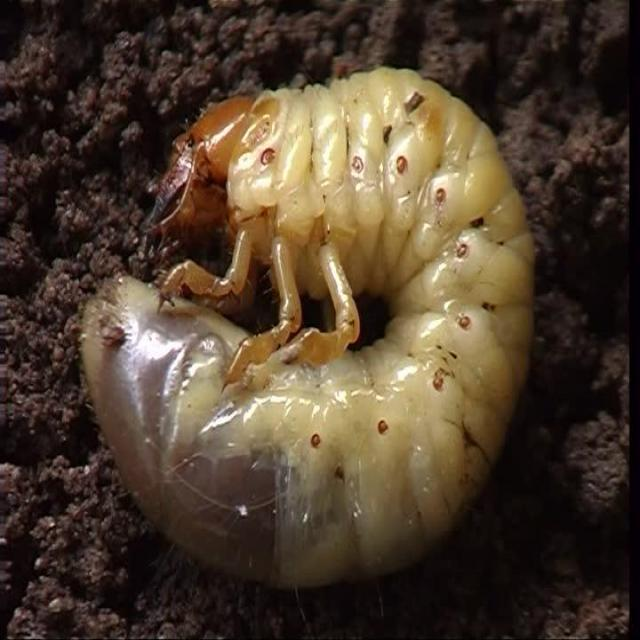Grub-Adult-: (68, 67, 544, 589)
